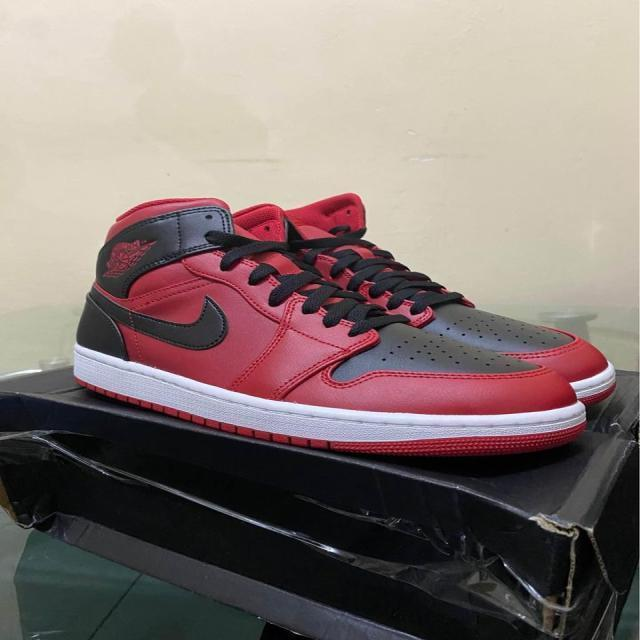nike original jordan 1: (69, 193, 594, 462), (231, 192, 618, 406)
